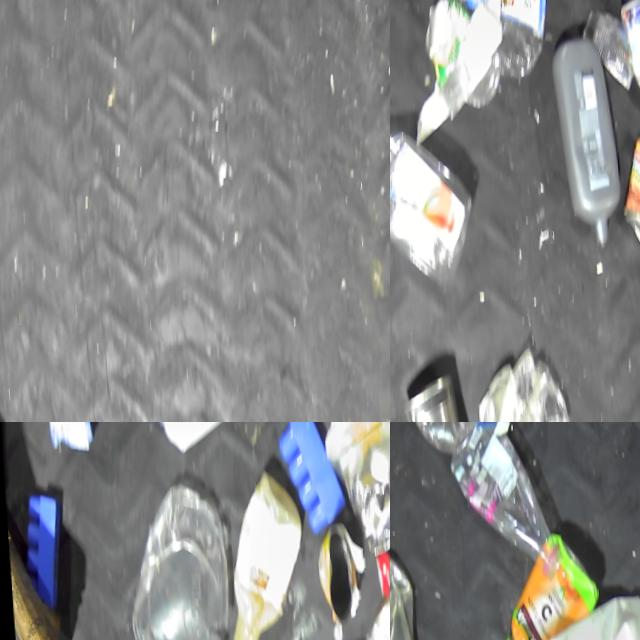can: (580, 18, 640, 102), (310, 528, 356, 631), (613, 150, 640, 270), (401, 371, 463, 422), (368, 526, 390, 608)
plastic_bottle: (444, 422, 558, 594)
